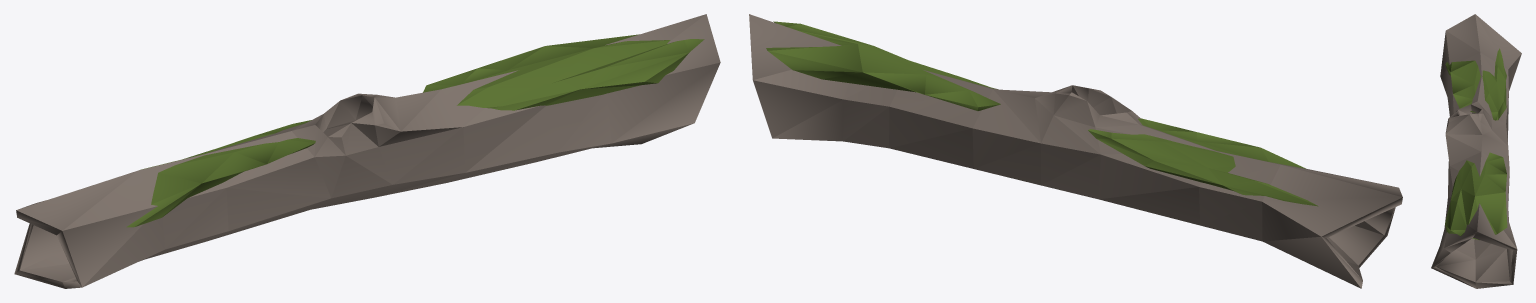
File: Obstacle_2_Egee_1.fbx
The picture shows the model from 3 angles, left to right: view 1: azimuth 30°, elevation 25°; view 2: azimuth 150°, elevation 25°; view 3: azimuth 270°, elevation 25°; orthographic projection. The views are drawn at different scales.
Visible parts, largest first — view 1: Log 1; view 2: Log 1; view 3: Log 1.
Boxes of the visible parts, x1,y1,x2,y2 form: Log 1: (14, 14, 720, 288); Log 1: (749, 14, 1402, 288); Log 1: (1431, 14, 1521, 288).
Bounding box in the file's own units: 567 × 94.02 × 92.3.
